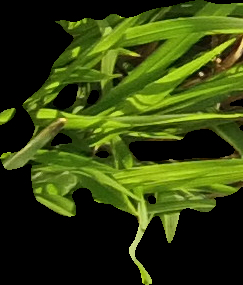grass: (1, 1, 242, 284)
